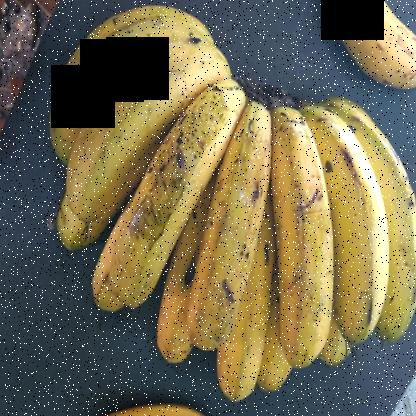ripe: (102, 80, 246, 307), (75, 38, 226, 237), (190, 77, 293, 359), (260, 110, 344, 390), (47, 12, 225, 137), (301, 104, 389, 348), (346, 92, 416, 342), (323, 1, 415, 85)
